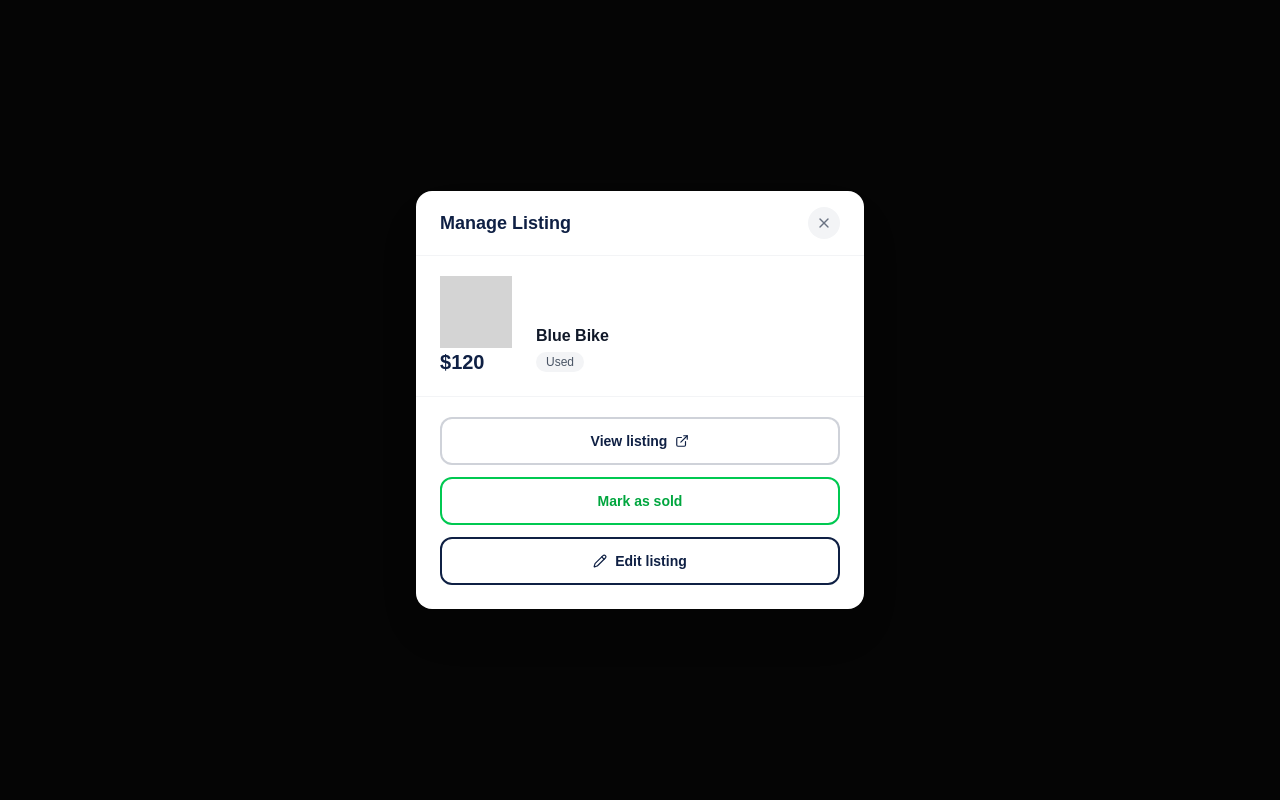
Test case: ListingManageModal › transitions to 'Confirm Sale' step when 'Mark as sold' is clicked
Step 1. Click the button "Mark as sold" → (640, 501), box [440,477,840,525]
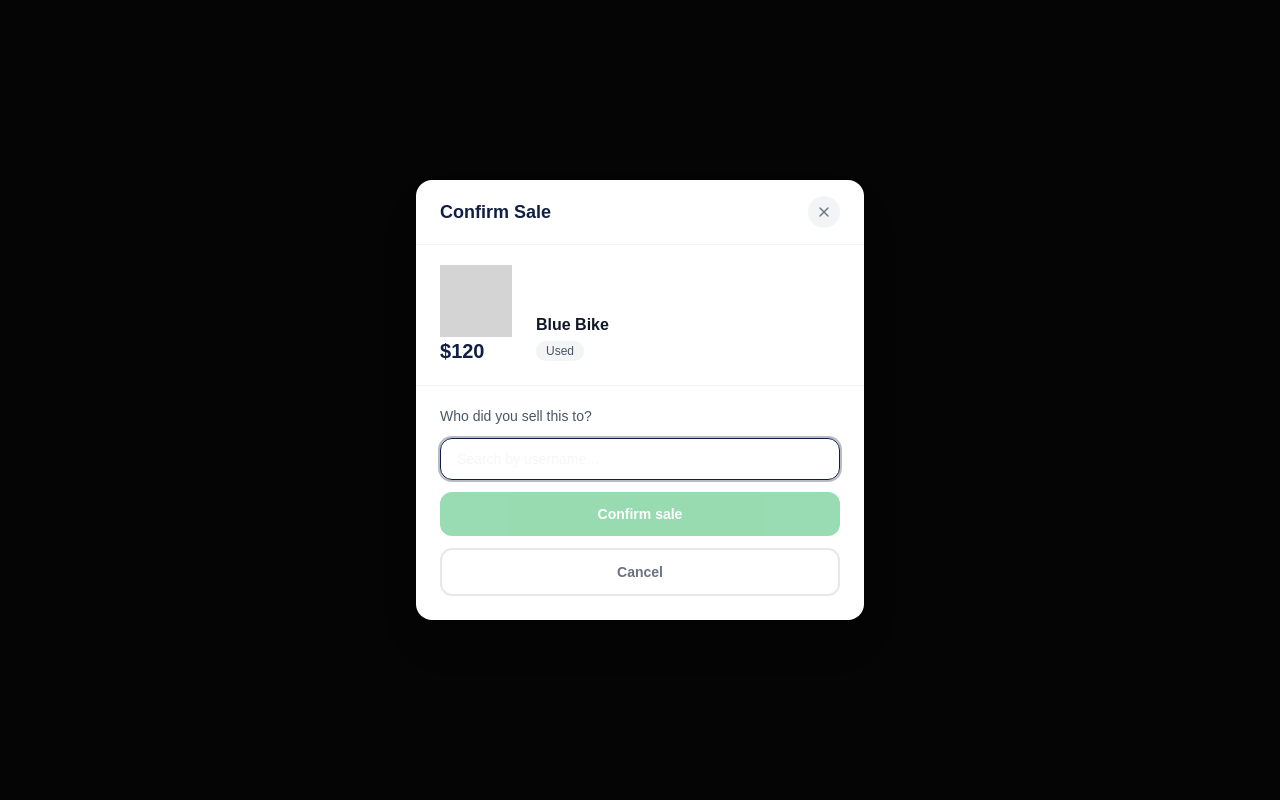
Now the heading "Confirm Sale" is shown, box [440,198,551,226]
Now the text "Who did you sell this to?" is shown, box [440,408,592,424]
Now the field with placeholder "Search by username…" is shown, box [440,438,840,480]
